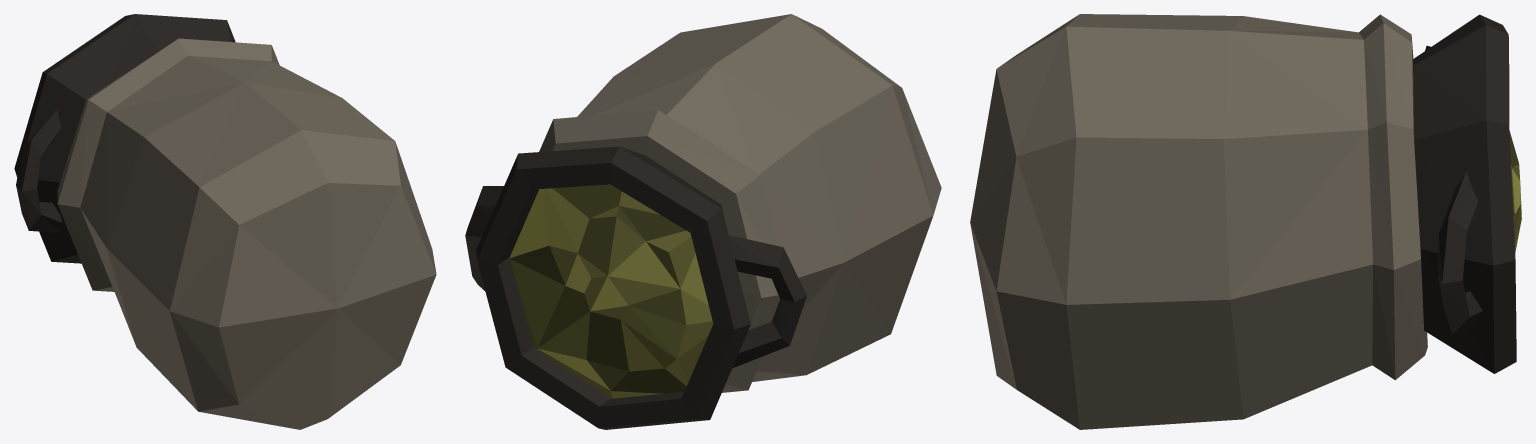
Rendered from Sack 4 Wheat.FBX.
The picture shows the model from 3 angles, left to right: view 1: azimuth 30°, elevation 25°; view 2: azimuth 150°, elevation 25°; view 3: azimuth 270°, elevation 25°; orthographic projection. The views are drawn at different scales.
Visible parts, largest first — view 1: Sack 04 Wheat; view 2: Sack 04 Wheat; view 3: Sack 04 Wheat.
Boxes of the visible parts, x1,y1,x2,y2 form: Sack 04 Wheat: (14,14,436,429); Sack 04 Wheat: (465,14,941,429); Sack 04 Wheat: (970,14,1521,429).
Bounding box in the file's own units: 65.15 × 80.72 × 63.57.
